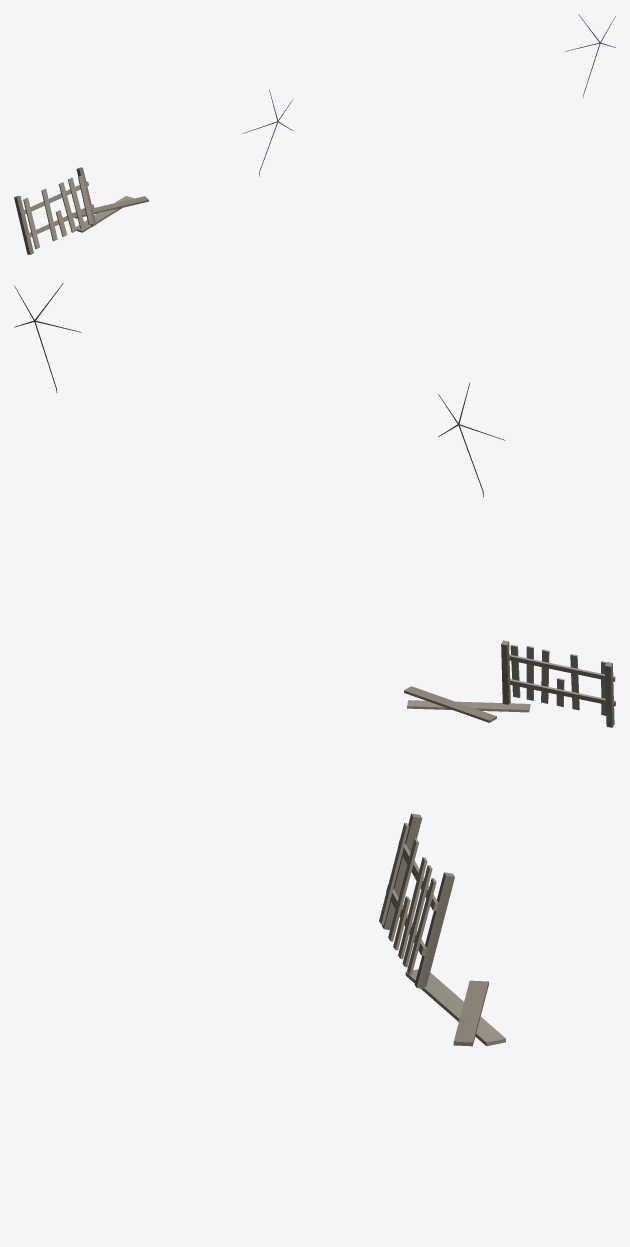
The model's file is house_worn_manor_low.glb.
The picture shows the model from 3 angles, top to bottom: view 1: azimuth 30°, elevation 25°; view 2: azimuth 150°, elevation 25°; view 3: azimuth 270°, elevation 25°; orthographic projection. The views are drawn at different scales.
Bounding box in the file's own units: 9.5 × 2.94 × 2.98.
